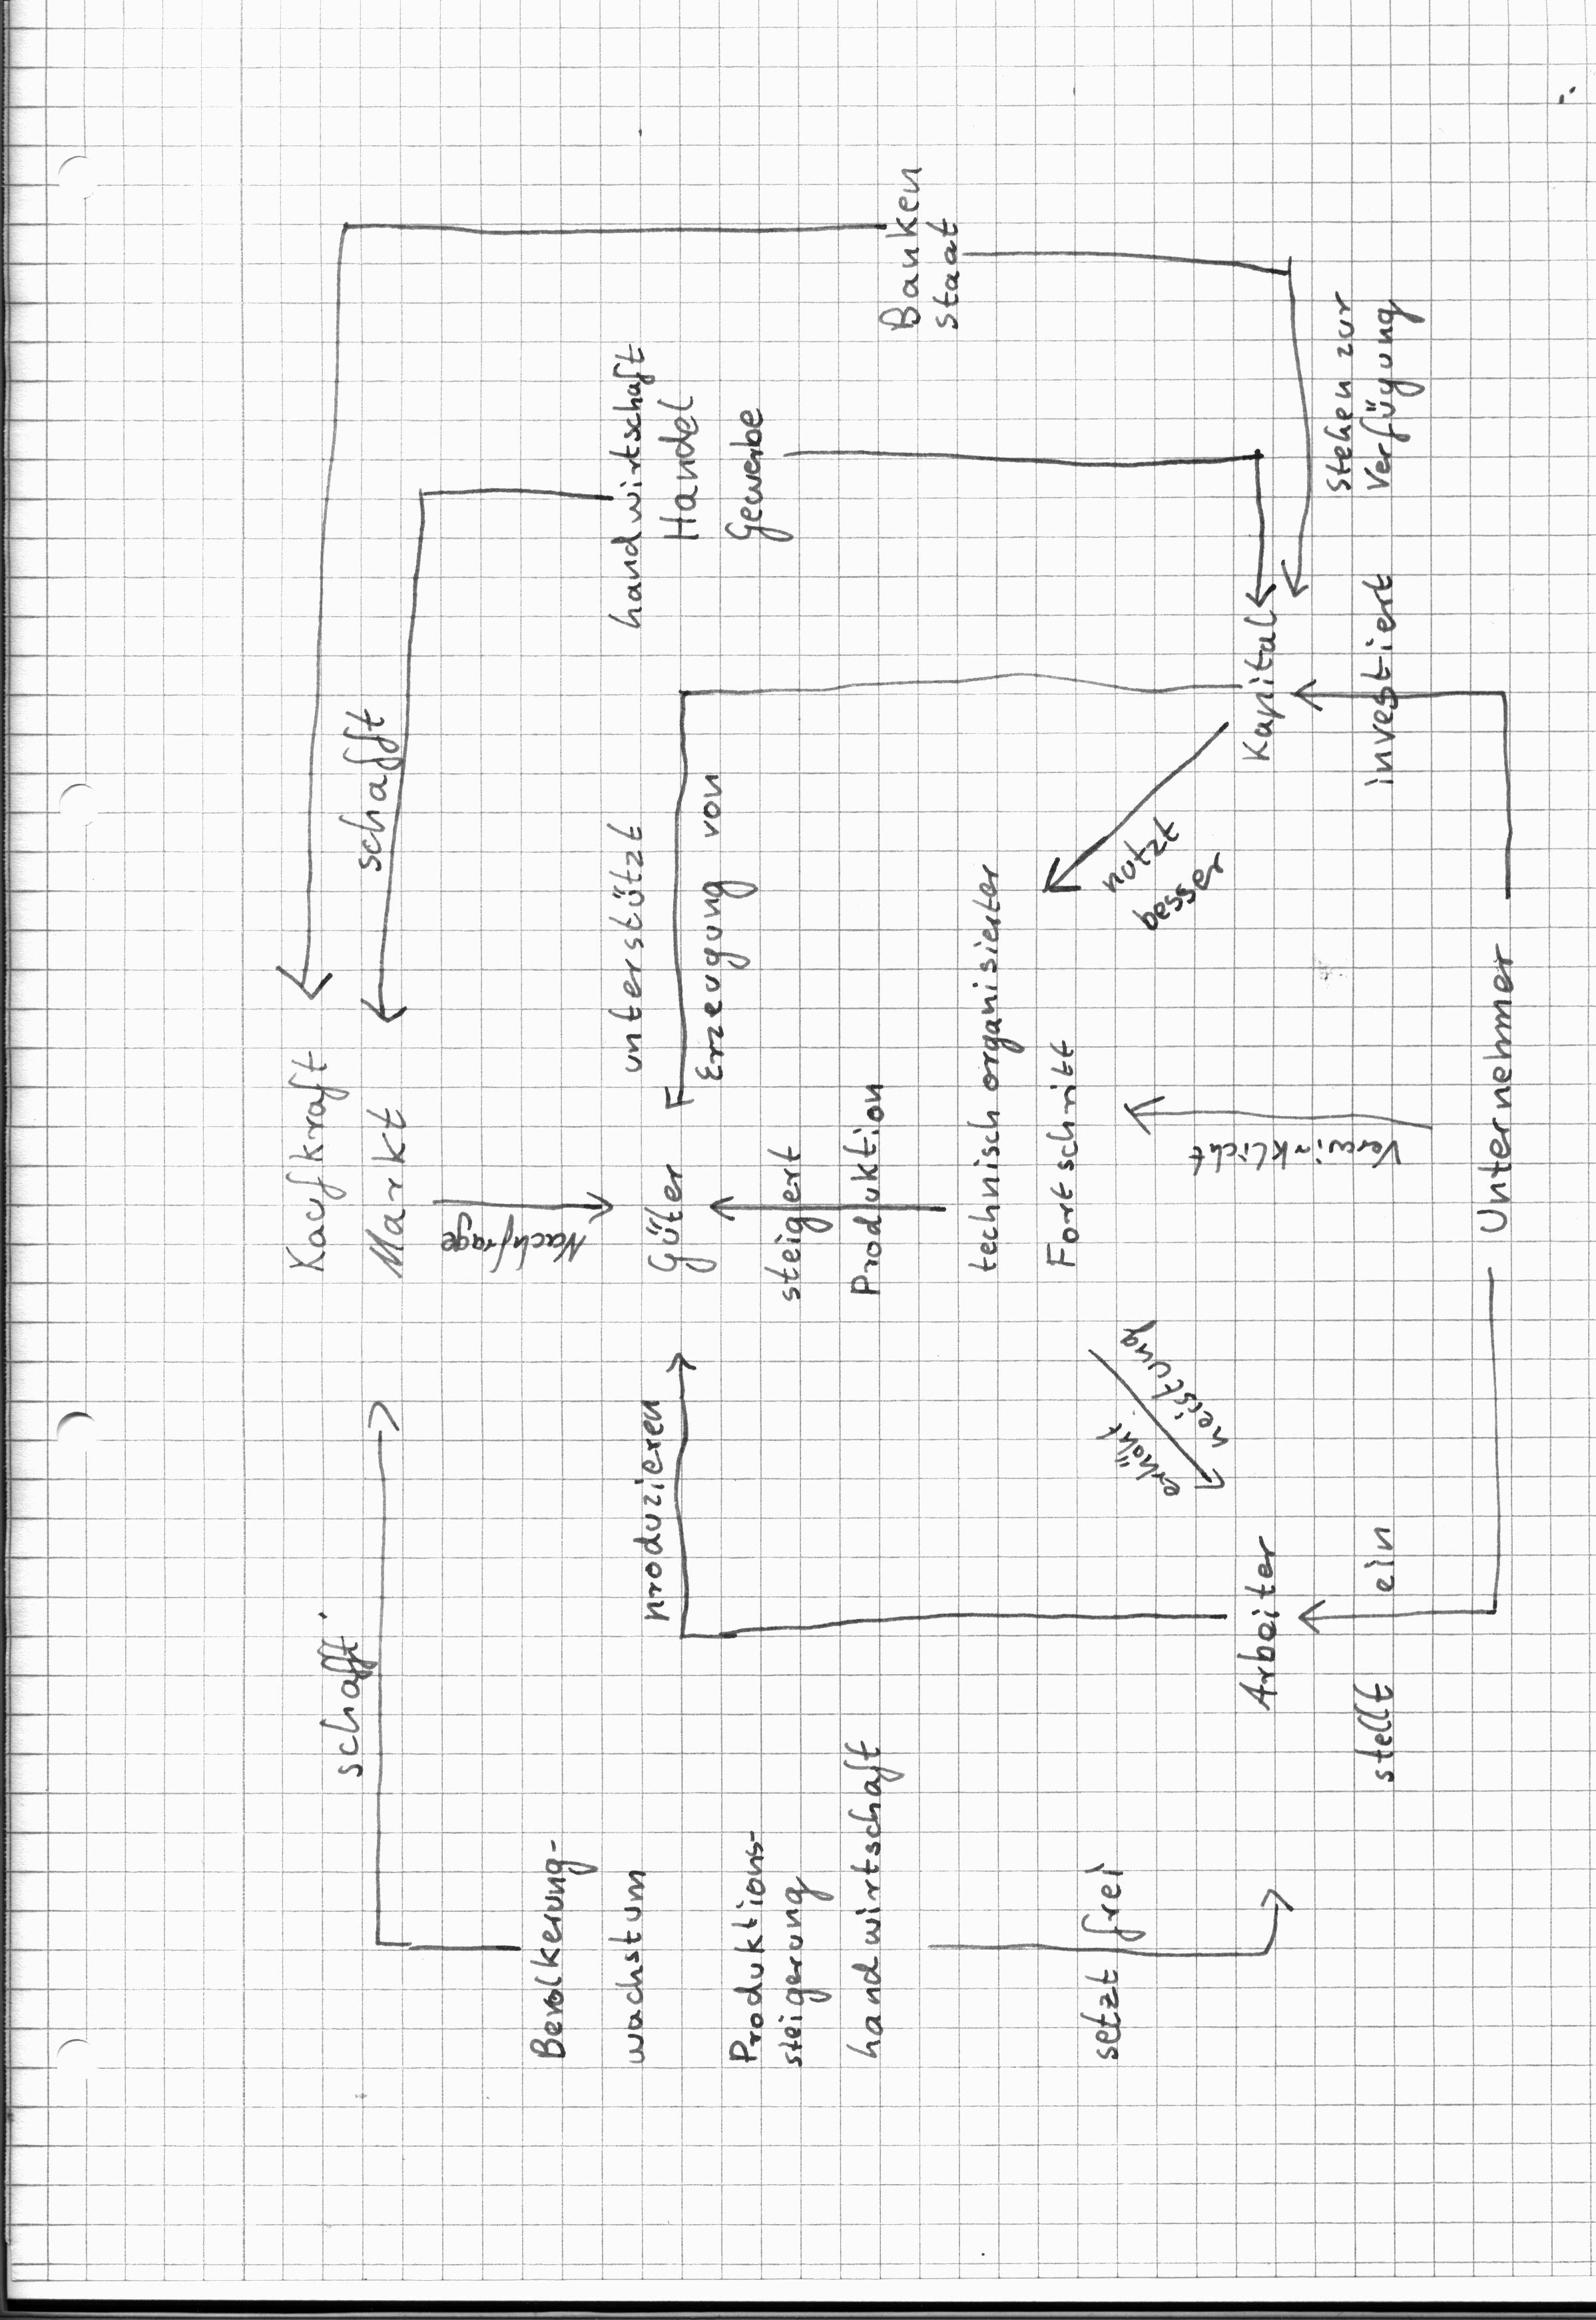word: (1085, 801, 1239, 942)
